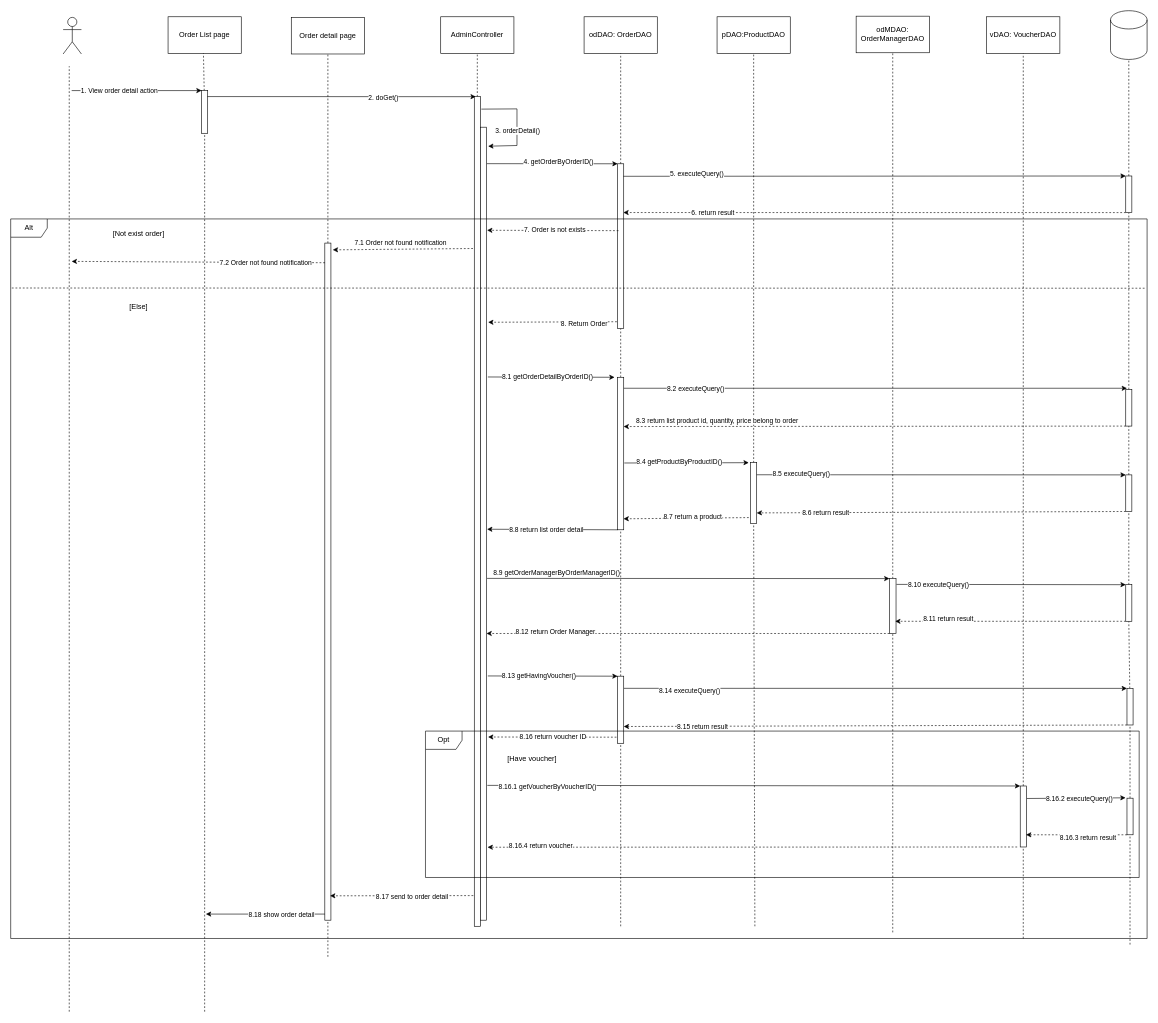
Image size: 1158x1023. Some labels were removed from this diagram. The shapes that lost their labels are listed below. From the top down, each one's centre as x and y in pixels, then its label:
pixel 72 35: Admin
pixel 1128 34: DB
